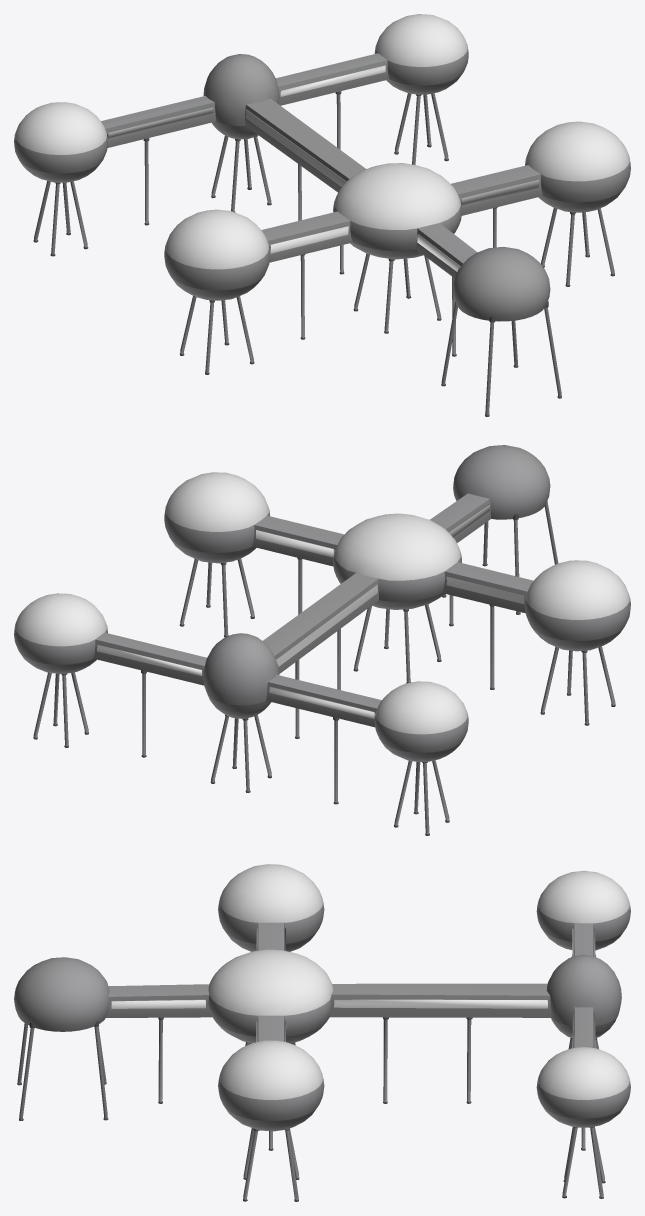
File: baseFacility.fbx
The picture shows the model from 3 angles, top to bottom: view 1: azimuth 30°, elevation 25°; view 2: azimuth 150°, elevation 25°; view 3: azimuth 270°, elevation 25°; orthographic projection.
Visible parts, largest first — view 1: base; view 2: base; view 3: base.
Boxes of the visible parts, box(x1,y1,x2,y2) form: base: box(14, 14, 630, 416); base: box(14, 445, 630, 835); base: box(14, 864, 630, 1201).
Bounding box in the file's own units: 251030 × 76366 × 296026.
